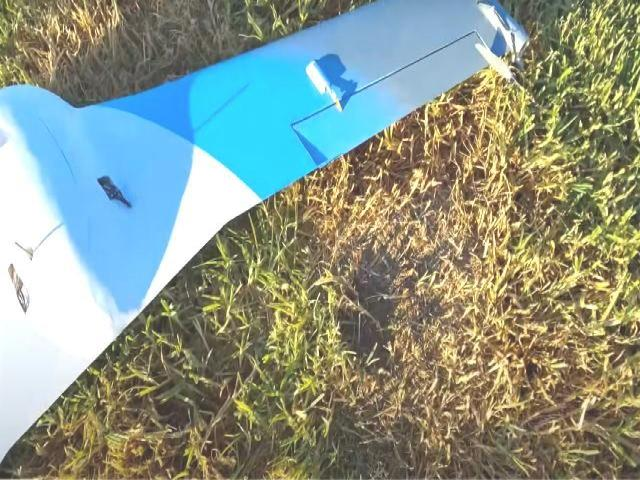iha: (1, 2, 529, 476)
